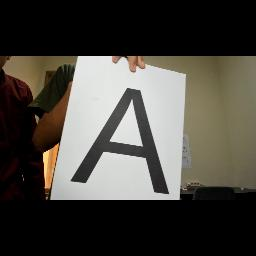a: (84, 82, 174, 196)
